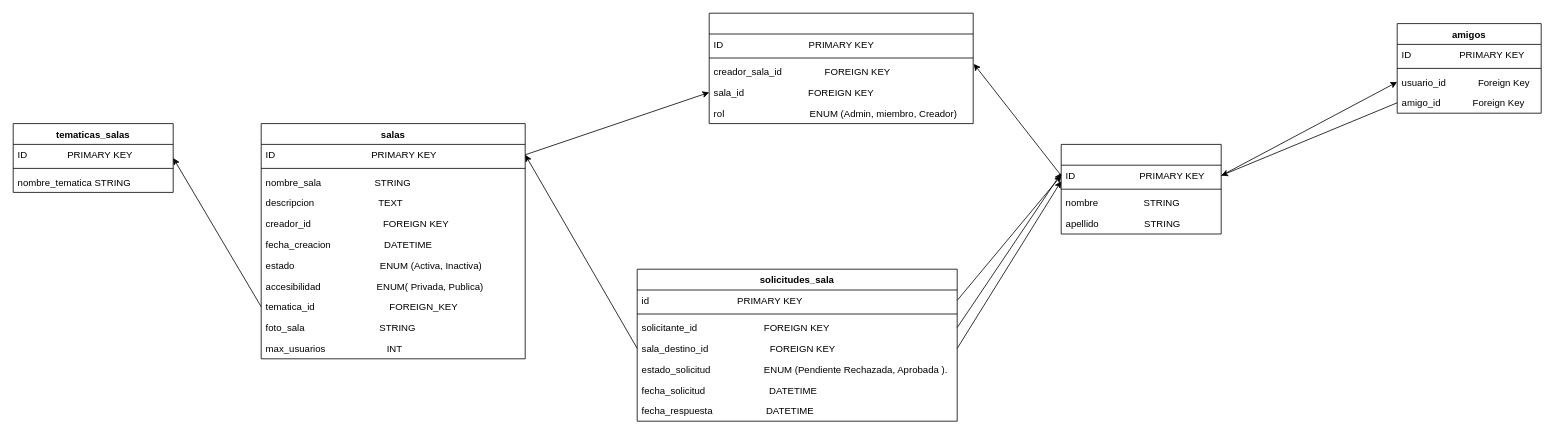
This 1554x434 diagram has some shape labels left out. Here are the shapes that lost their labels. From the top down, the box of each, then its label:
(708, 12, 973, 124): usuarios_salas
(1060, 144, 1221, 234): usuarios
